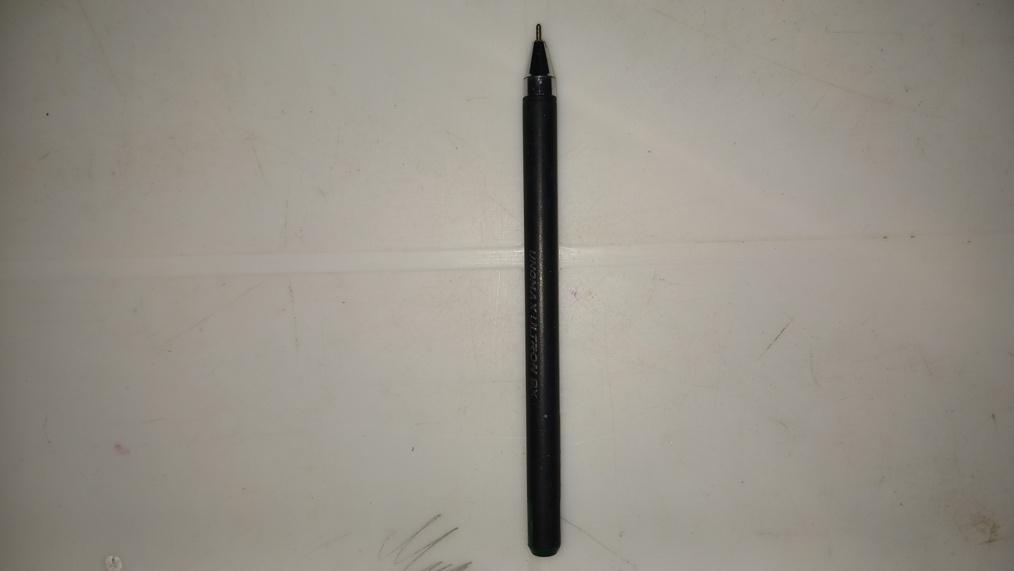pen: (523, 19, 560, 559)
